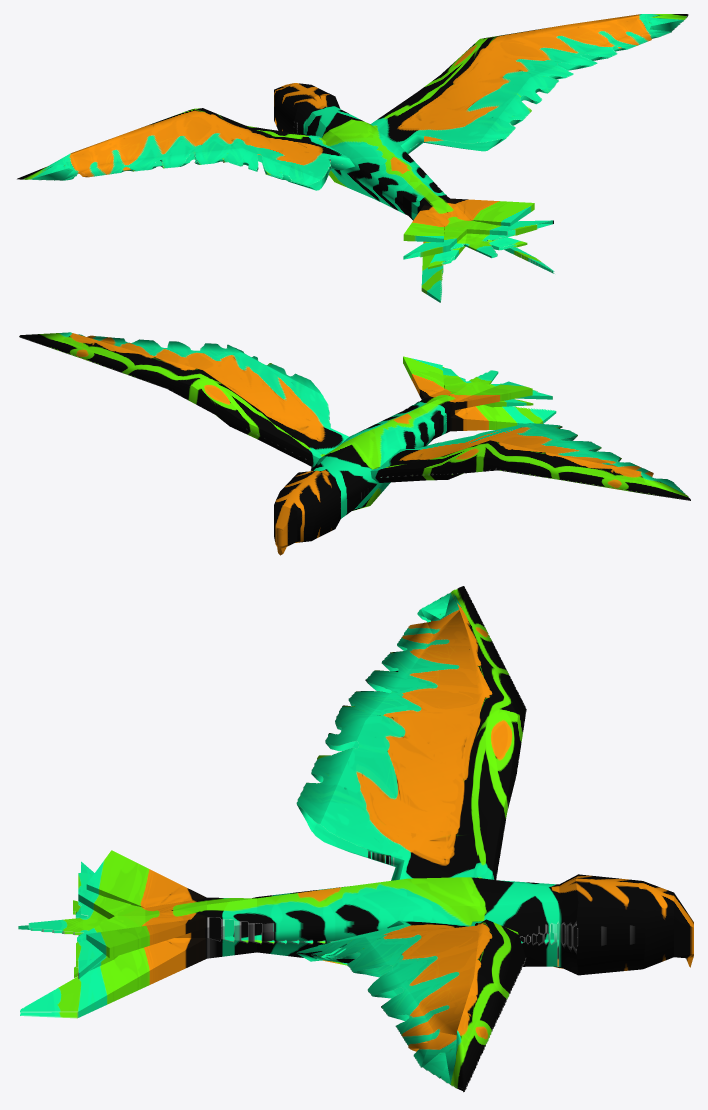
Rendered from parrot textured lian.fbx.
The picture shows the model from 3 angles, top to bottom: view 1: azimuth 30°, elevation 25°; view 2: azimuth 150°, elevation 25°; view 3: azimuth 270°, elevation 25°; orthographic projection. The views are drawn at different scales.
Visible parts, largest first — view 1: pCube1; view 2: pCube1; view 3: pCube1.
Boxes of the visible parts, x1,y1,x2,y2 form: pCube1: (17, 14, 688, 302); pCube1: (19, 332, 690, 555); pCube1: (18, 586, 693, 1092).
Size of the model in its own units: 98.71 by 15.25 by 55.47.
